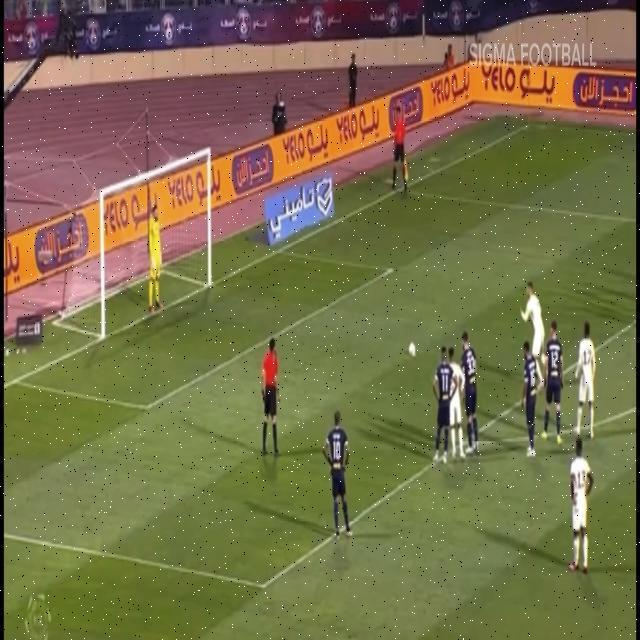ball: (404, 328, 420, 374)
goalkeeper: (141, 189, 171, 322)
player: (566, 431, 600, 580), (322, 405, 357, 547), (519, 262, 546, 390), (573, 310, 601, 430), (545, 324, 569, 452), (431, 338, 453, 459), (461, 336, 482, 456), (447, 341, 466, 471), (521, 340, 539, 462)
referee: (253, 334, 285, 475)
